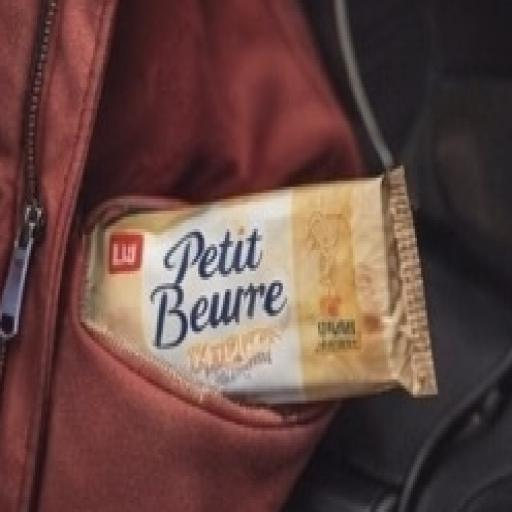petit-beurre: (44, 123, 477, 436)
